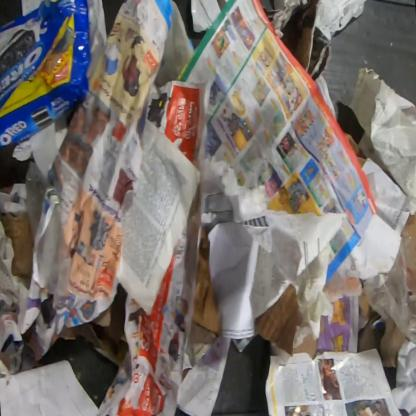cardboard: (293, 0, 332, 83), (404, 214, 416, 298)
soft_plastic: (0, 0, 92, 149), (362, 226, 415, 346)
